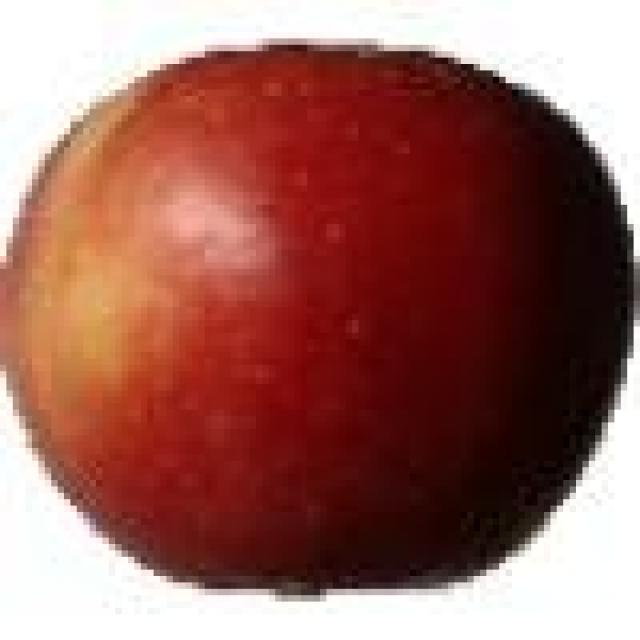Apple: (6, 45, 627, 582)
